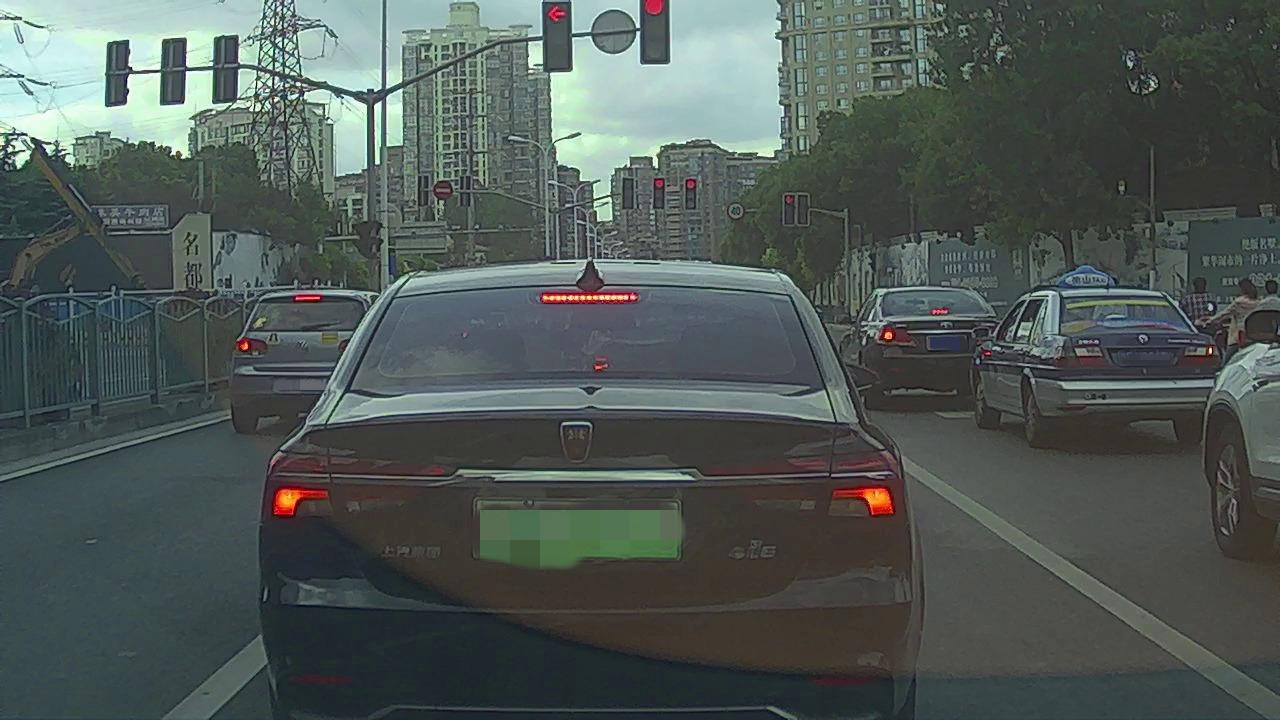traffic_light: (541, 1, 573, 69), (639, 1, 670, 60), (782, 194, 796, 226), (622, 175, 634, 207), (684, 178, 695, 210), (653, 178, 664, 209), (798, 195, 808, 226)
